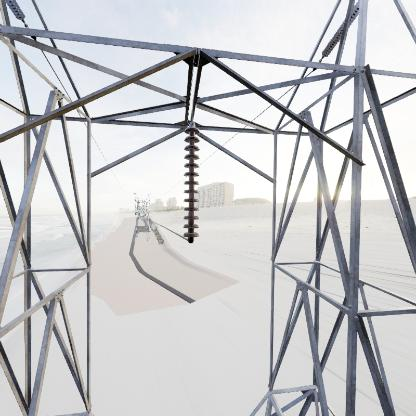insulator: (182, 127, 202, 246)
